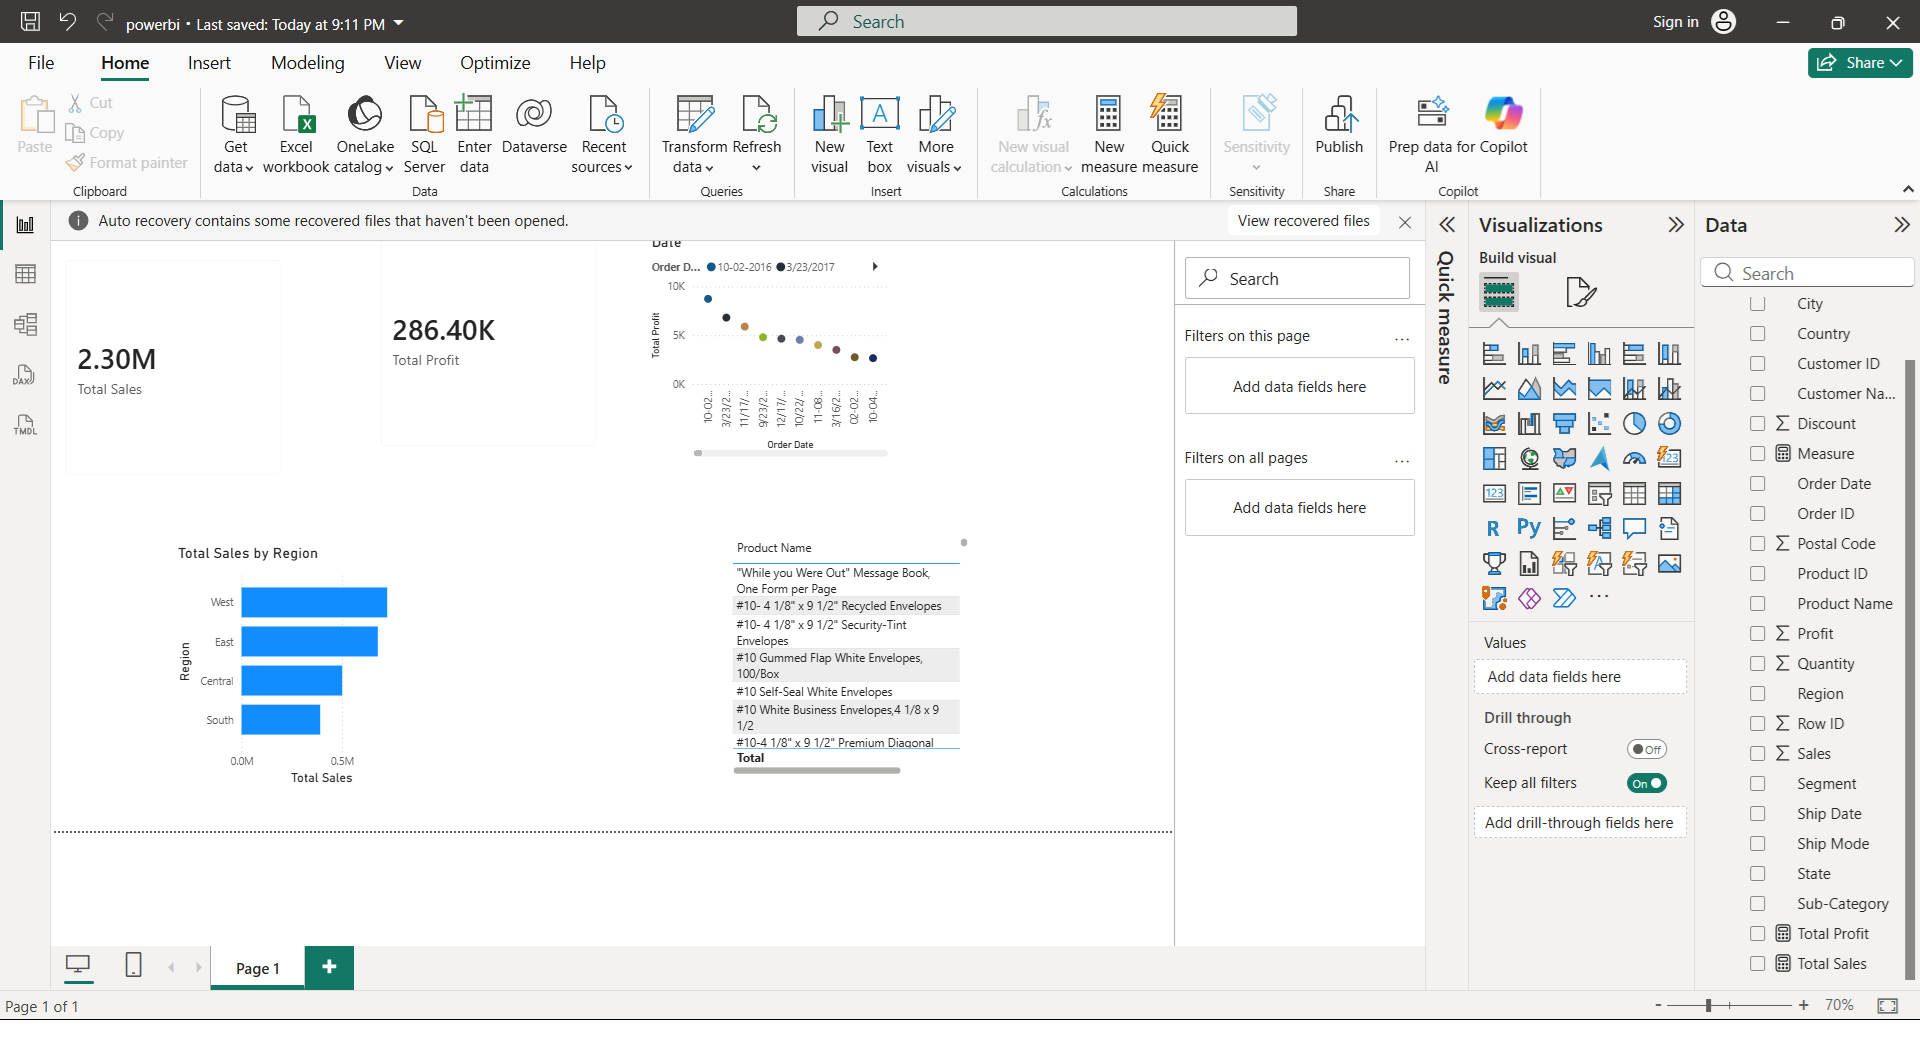

This screenshot's page, from the dashboard's own definition file:
{"tool":"powerbi","page":{"name":"Page 1","canvas":[1280,720],"ordinal":0},"visuals":[{"type":"cardVisual","fields":{"Data":["Cleaned_Superstore_Data xls.Total Sales"]},"box":[0,50.8,279.9,279.9],"z":0},{"type":"cardVisual","fields":{"Data":["Cleaned_Superstore_Data xls.Total Profit"]},"box":[359.5,17.8,279.9,279.9],"z":1000},{"type":"clusteredBarChart","fields":{"Category":["Cleaned_Superstore_Data xls.Region"],"Y":["Cleaned_Superstore_Data xls.Total Sales"]},"box":[140,392.5,279.9,279.9],"z":2000},{"type":"lineChart","fields":{"Category":["Cleaned_Superstore_Data xls.Order Date"],"Series":["Cleaned_Superstore_Data xls.Order Date"],"Y":["Cleaned_Superstore_Data xls.Total Profit"]},"box":[679.9,18.5,279.4,279.4],"z":3000},{"type":"tableEx","fields":{"Values":["Cleaned_Superstore_Data xls.Product Name","Sum(Cleaned_Superstore_Data xls.Sales)"]},"box":[771.1,380.6,279.4,279.4],"z":3001}]}

Visuals, with their boxes on the page's 1280x720 design canvas (x1, y1, x2, y2). These are canvas units, not pixel positions in the 1920x1044 screenshot, which may show the page scaled, cropped or inside an application window:
cardVisual - Cleaned_Superstore_Data xls.Total Sales: Rect(0, 51, 280, 331)
cardVisual - Cleaned_Superstore_Data xls.Total Profit: Rect(360, 18, 639, 298)
clusteredBarChart - Cleaned_Superstore_Data xls.Region x Cleaned_Superstore_Data xls.Total Sales: Rect(140, 392, 420, 672)
lineChart - Cleaned_Superstore_Data xls.Order Date x Cleaned_Superstore_Data xls.Order Date: Rect(680, 18, 959, 298)
tableEx - Cleaned_Superstore_Data xls.Product Name x Sum(Cleaned_Superstore_Data xls.Sales): Rect(771, 381, 1050, 660)
